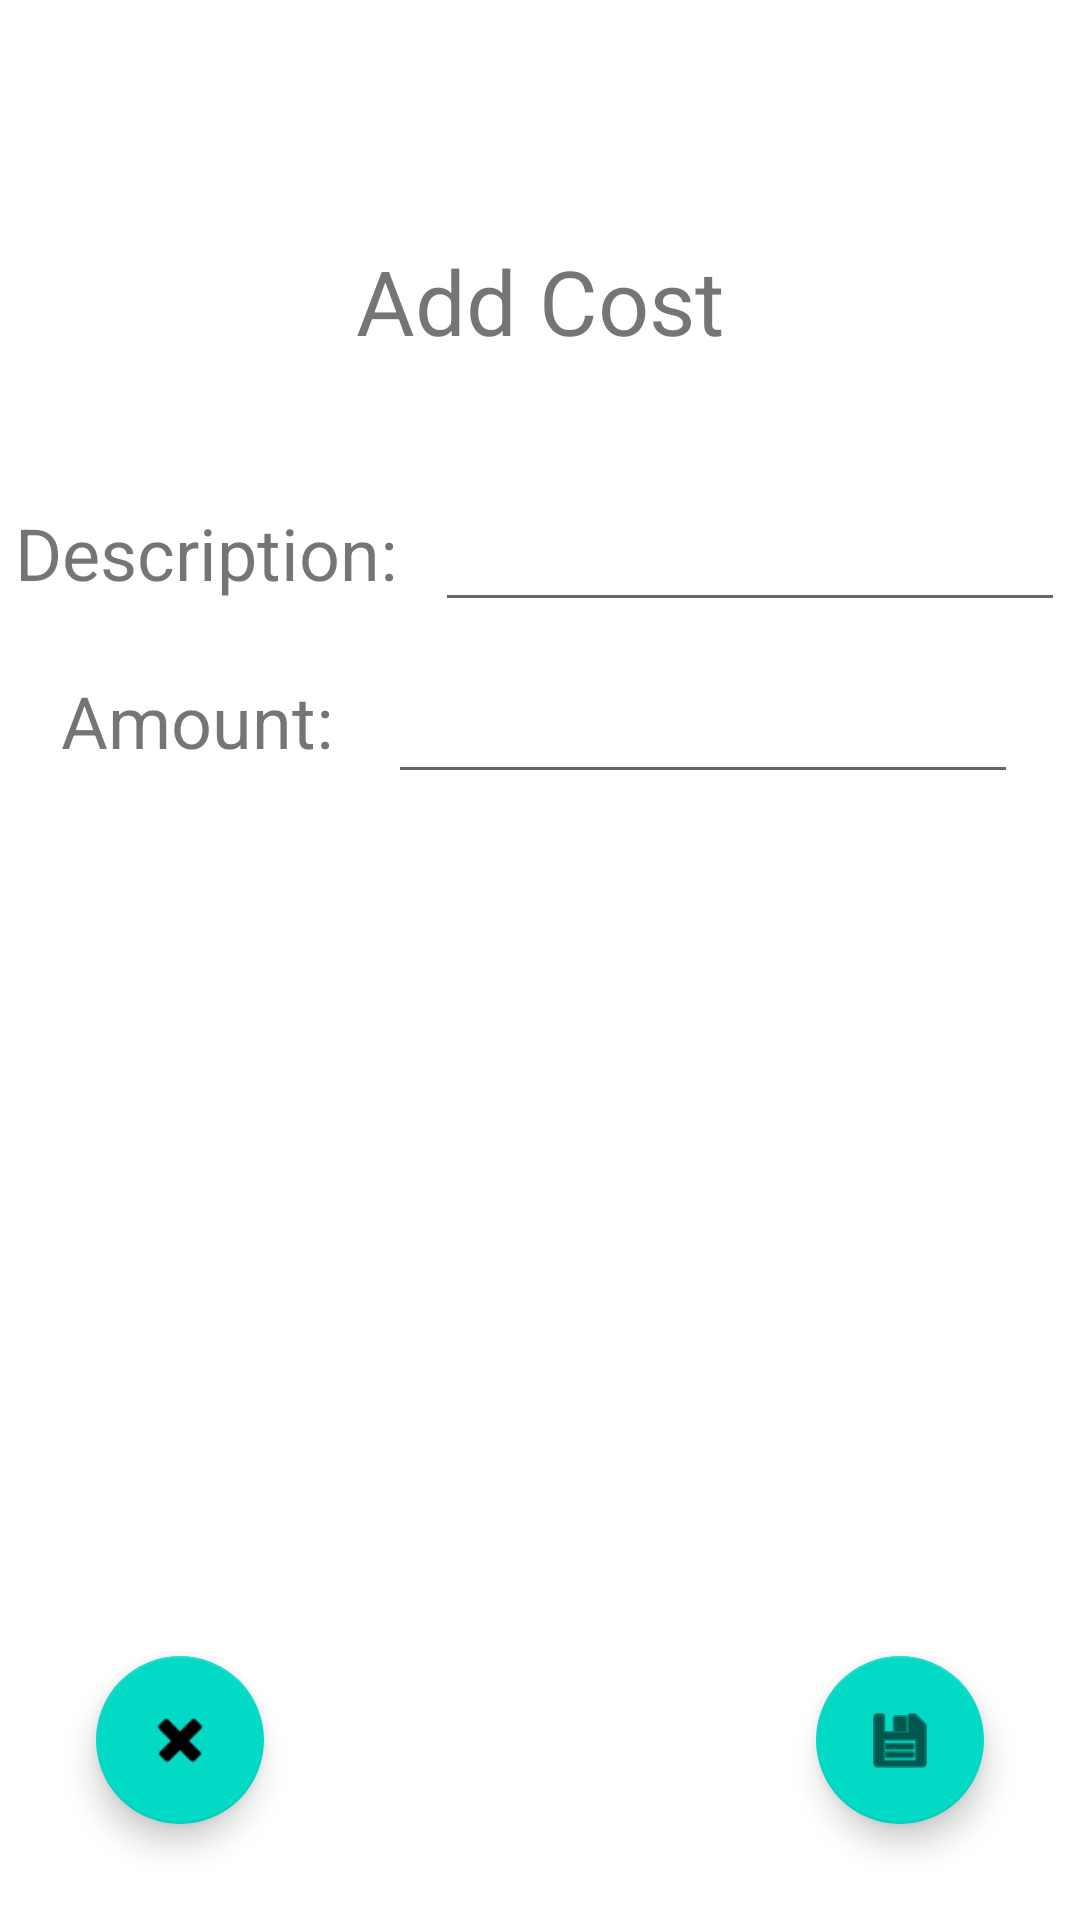

Screen size 1080x1920. Icon name, then its box in pixels as (x1, y1, x2, y2):
delete: (96, 1656, 264, 1824)
save: (816, 1656, 984, 1824)
